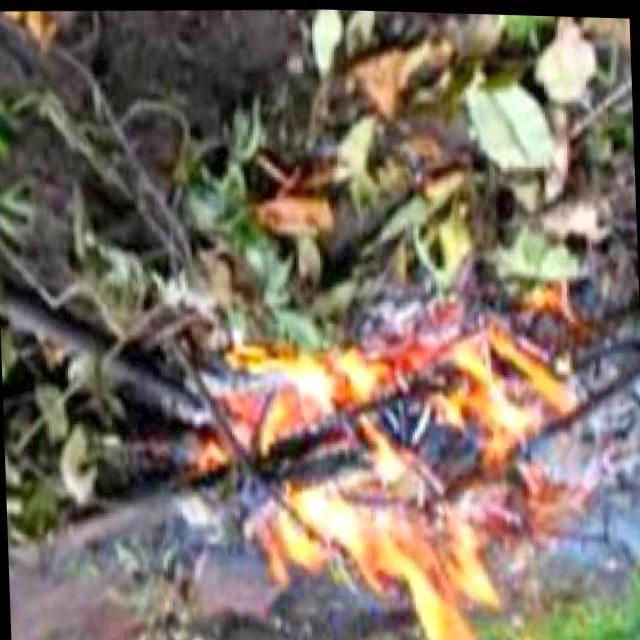fire: (227, 303, 568, 640)
